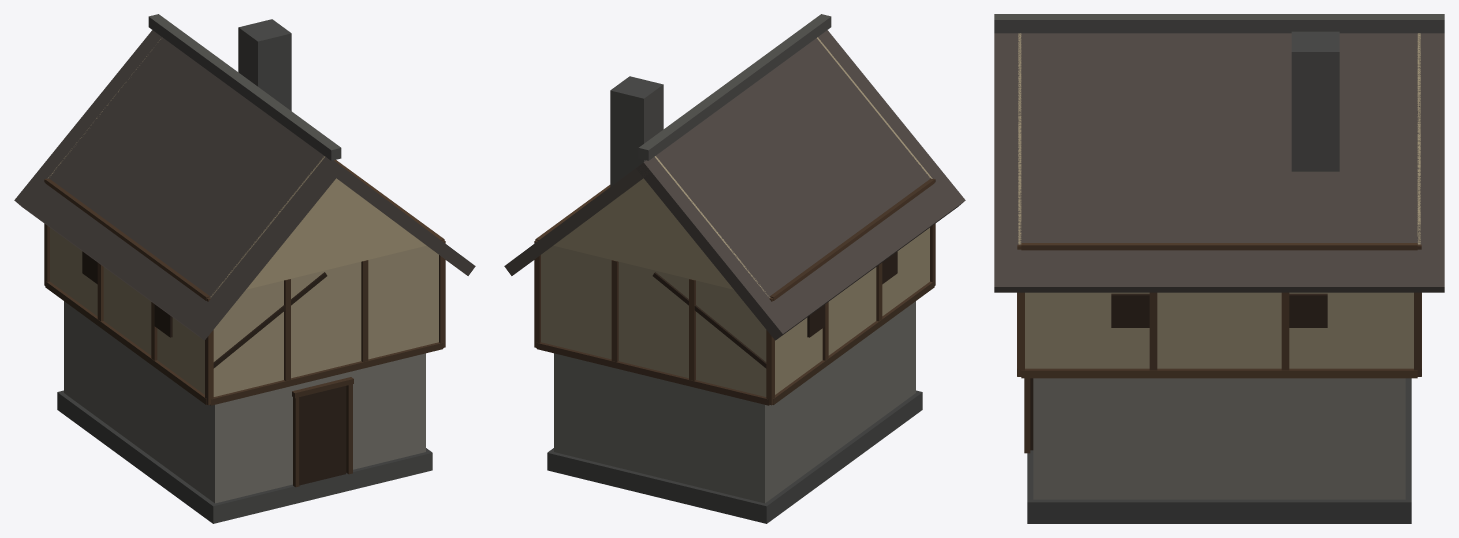
Rendered from hallowed_townhouse.glb.
The picture shows the model from 3 angles, left to right: view 1: azimuth 30°, elevation 25°; view 2: azimuth 150°, elevation 25°; view 3: azimuth 270°, elevation 25°; orthographic projection. The views are drawn at different scales.
Visible parts, largest first — view 1: hallowed_townhouse; view 2: hallowed_townhouse; view 3: hallowed_townhouse.
Boxes of the visible parts, <box> form: hallowed_townhouse: <box>14,14,475,523</box>; hallowed_townhouse: <box>504,14,965,523</box>; hallowed_townhouse: <box>994,14,1444,523</box>.
Bounding box in the file's own units: 6.6 × 8.3 × 7.5.
1 material, 1 textured.
